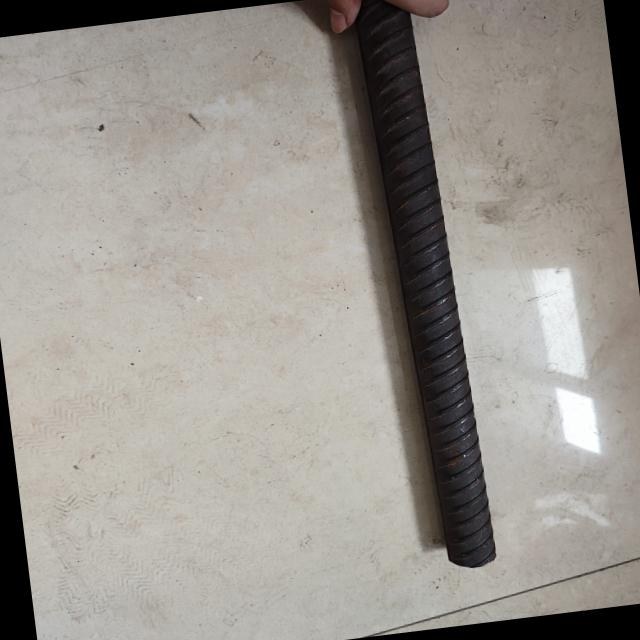ribbed bar: (350, 18, 510, 574)
